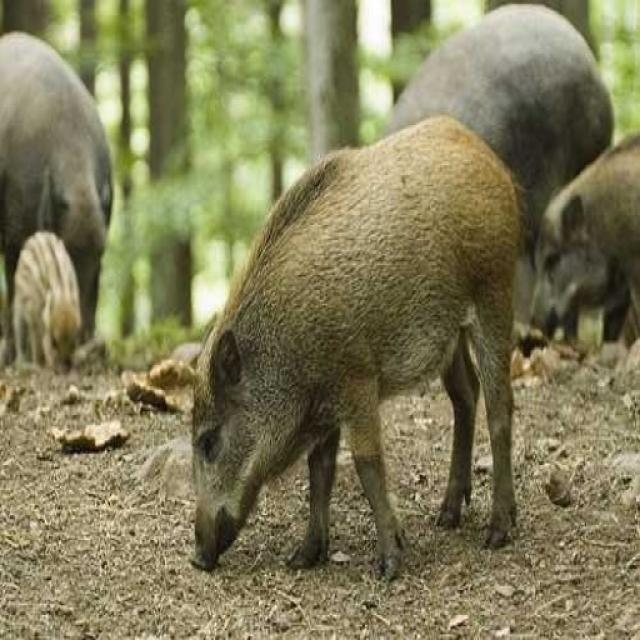pig: (157, 133, 551, 583)
